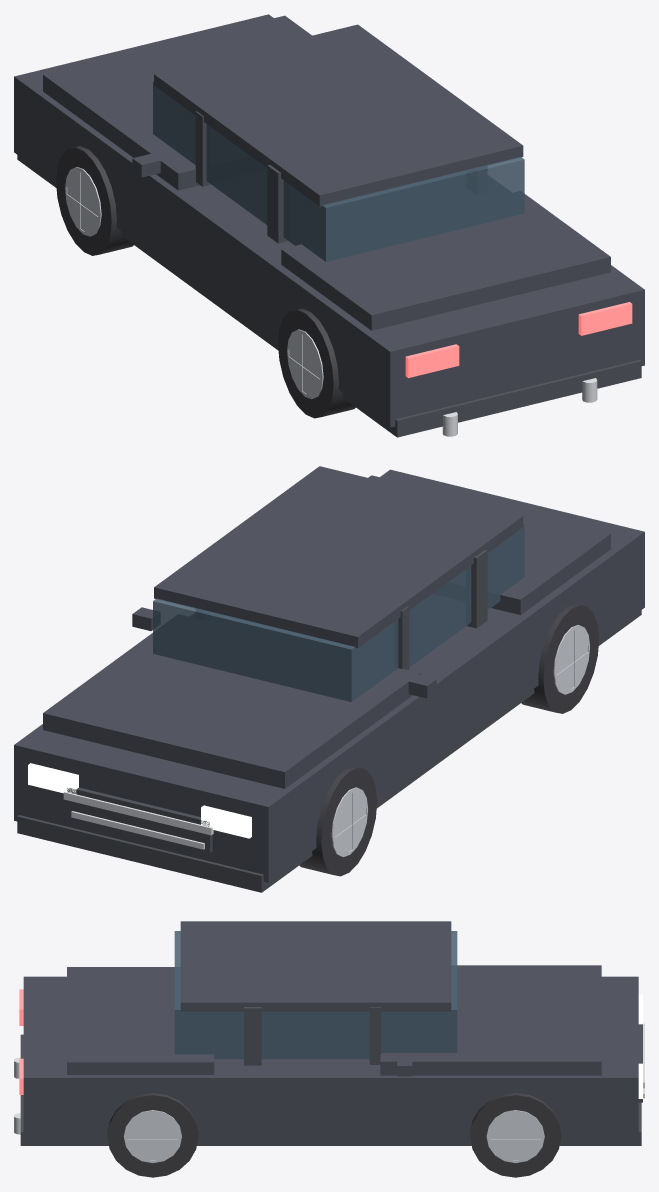
File: malibu.glb
3 views of the same model, one above another, from view 1: azimuth 30°, elevation 25°; view 2: azimuth 150°, elevation 25°; view 3: azimuth 270°, elevation 25° (orthographic). The views are drawn at different scales.
Parts seen in each view (by area): view 1: Malibu_Body, wheel_rl, wheel_fl; view 2: Malibu_Body, wheel_rl, wheel_fl; view 3: Malibu_Body, wheel_rr, wheel_fr.
Part boxes in pixels (bbox=[...]): Malibu_Body: bbox=[14, 14, 644, 437]; wheel_rl: bbox=[278, 308, 355, 418]; wheel_fl: bbox=[56, 146, 133, 255]; Malibu_Body: bbox=[14, 466, 644, 892]; wheel_rl: bbox=[521, 604, 599, 713]; wheel_fl: bbox=[299, 766, 377, 876]; Malibu_Body: bbox=[14, 921, 644, 1145]; wheel_rr: bbox=[107, 1093, 198, 1177]; wheel_fr: bbox=[470, 1093, 561, 1177].
Size of the model in its own units: 2.2 by 1.42 by 4.99.
